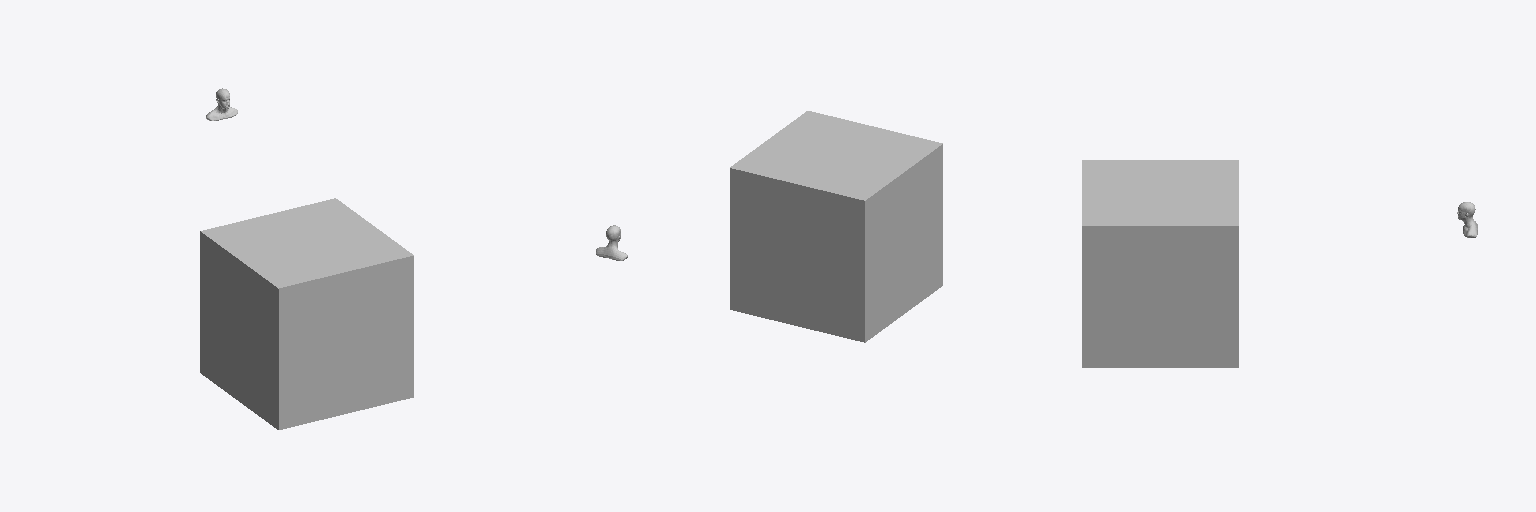
Rendered from head_normals.obj.
3 views of the same model, side by side, from view 1: azimuth 30°, elevation 25°; view 2: azimuth 150°, elevation 25°; view 3: azimuth 270°, elevation 25° (orthographic).
Parts seen in each view (by area): view 1: Cube; view 2: Cube, Group2; view 3: Cube.
Boxes of the visible parts, box(x1,y1,x2,y2) form: Cube: box(200, 198, 413, 429); Cube: box(730, 111, 942, 342); Group2: box(596, 225, 626, 260); Cube: box(1082, 160, 1238, 367).
Bounding box in the file's own units: 2.26 × 2.35 × 5.06.